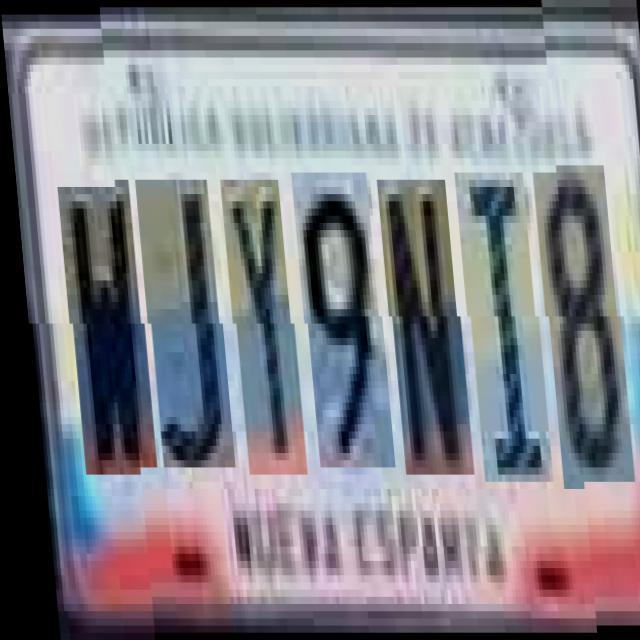8: (532, 172, 626, 490)
9: (291, 172, 387, 468)
I: (454, 173, 544, 482)
J: (135, 180, 227, 468)
N: (377, 180, 466, 474)
W: (56, 180, 148, 468)
Y: (220, 180, 299, 474)
